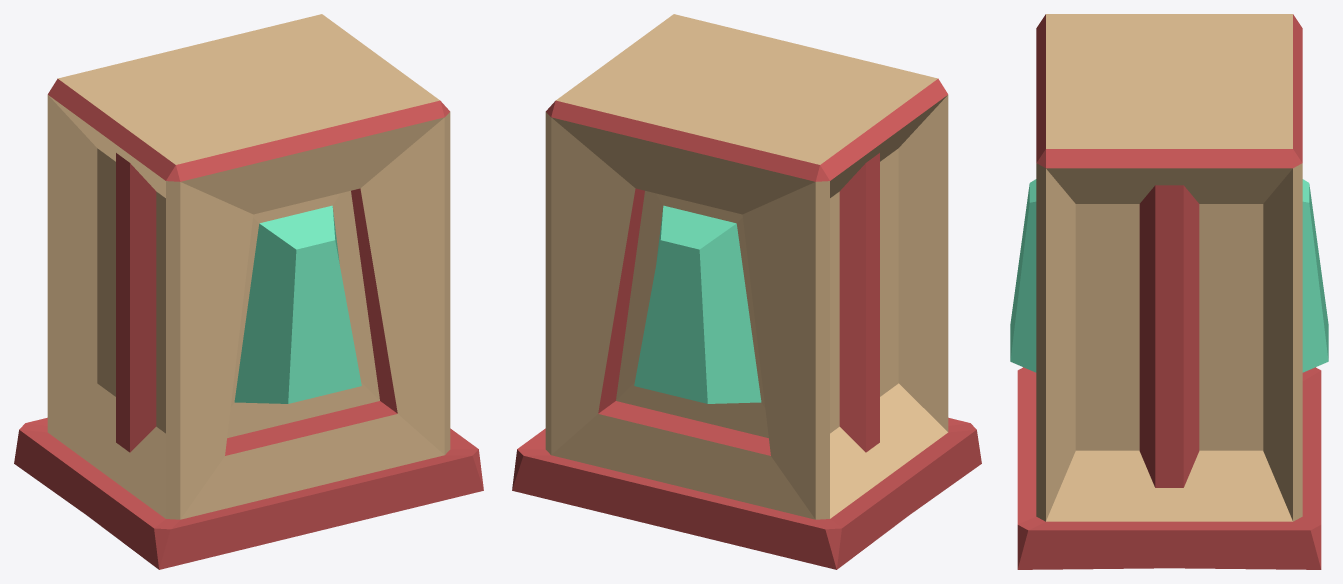
File: Block.fbx
The picture shows the model from 3 angles, left to right: view 1: azimuth 30°, elevation 25°; view 2: azimuth 150°, elevation 25°; view 3: azimuth 270°, elevation 25°; orthographic projection. The views are drawn at different scales.
Visible parts, largest first — view 1: Cube; view 2: Cube; view 3: Cube.
Part boxes in pixels (x1=…): Cube: x1=14, y1=14, x2=483, y2=569; Cube: x1=512, y1=14, x2=981, y2=569; Cube: x1=1010, y1=14, x2=1328, y2=569.
Size of the model in its own units: 2123 by 2422 by 1722.
